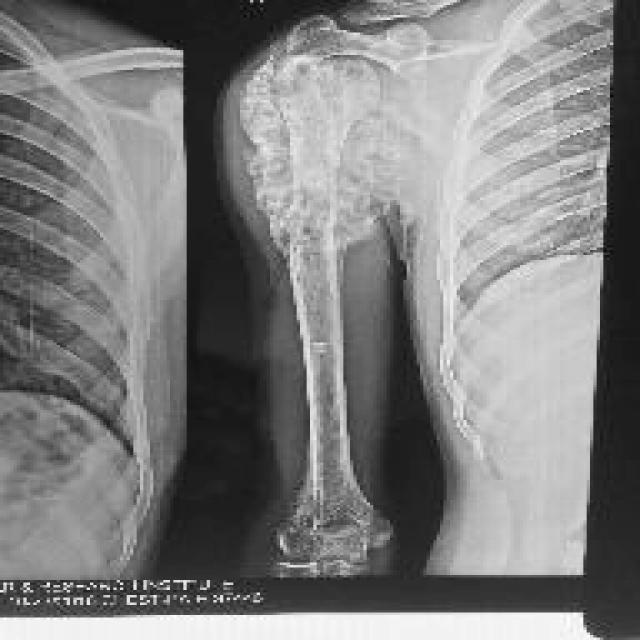bone-cancer: (242, 56, 398, 258)
